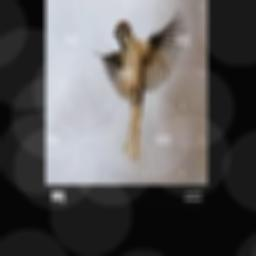Sparrow: (93, 7, 184, 161)
